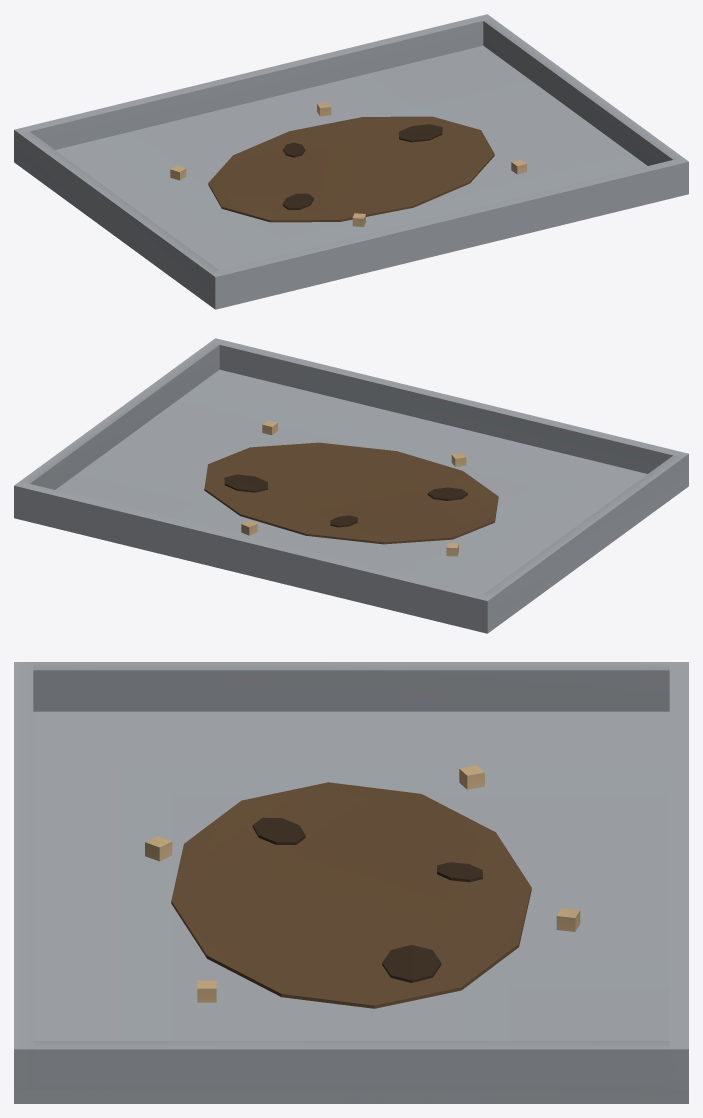
File: trayDirty.glb
3 renders of one model, top to bottom at view 1: azimuth 30°, elevation 25°; view 2: azimuth 150°, elevation 25°; view 3: azimuth 270°, elevation 25°, orthographic. The views are drawn at different scales.
Visible parts, largest first — view 1: trayDirty; view 2: trayDirty; view 3: trayDirty.
Part boxes in pixels (x1=…): trayDirty: x1=14, y1=14, x2=688, y2=309; trayDirty: x1=14, y1=338, x2=688, y2=633; trayDirty: x1=14, y1=662, x2=688, y2=1103.
Size of the model in its own units: 0.38 by 0.025 by 0.28.
